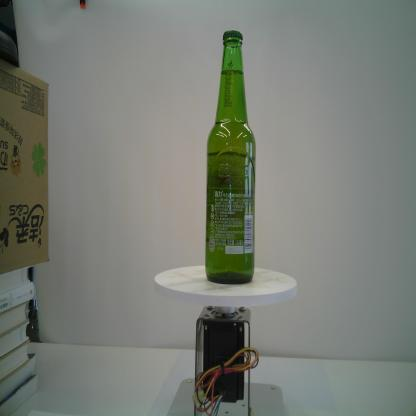Alcohol: (202, 29, 258, 287)
